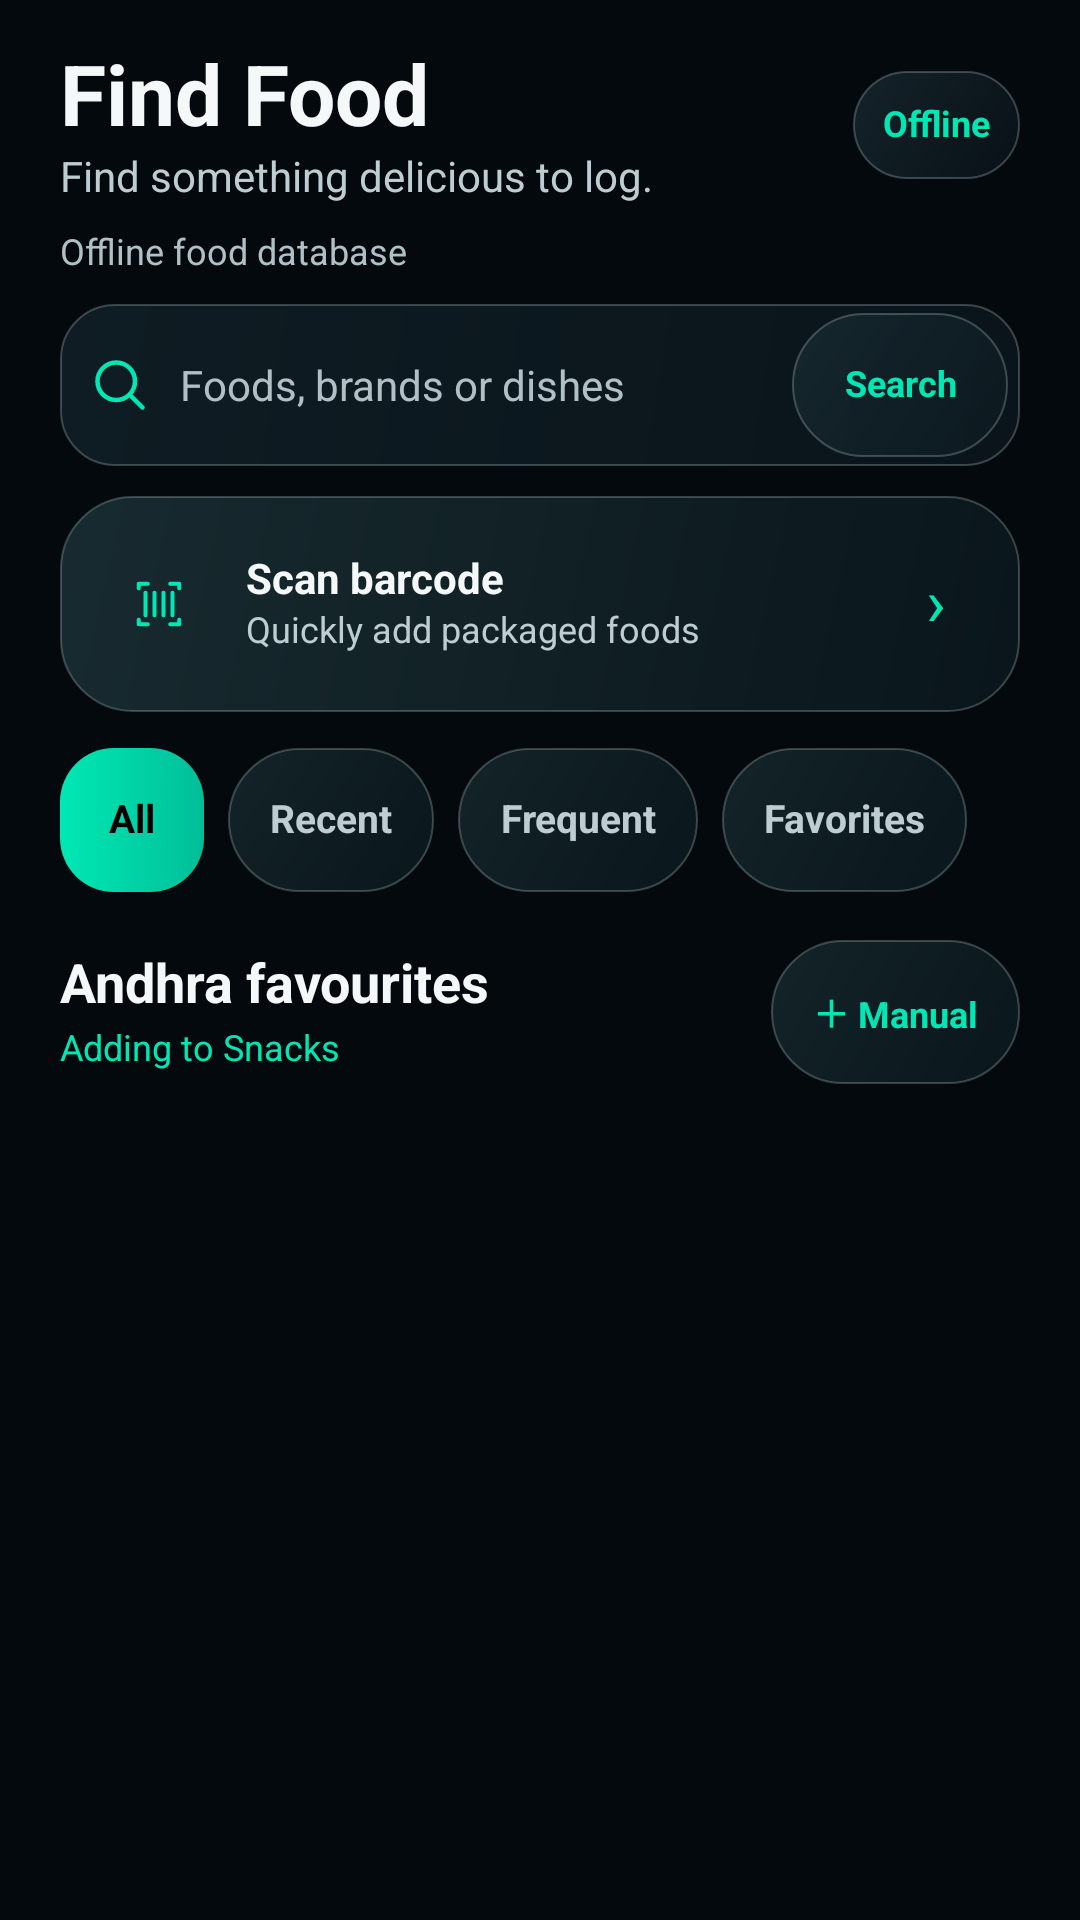

Icons on this 1080 × 1920 Android screen, each with the point to tap as (x,y):
ui barcode: (159,604)
ui search: (120,385)
